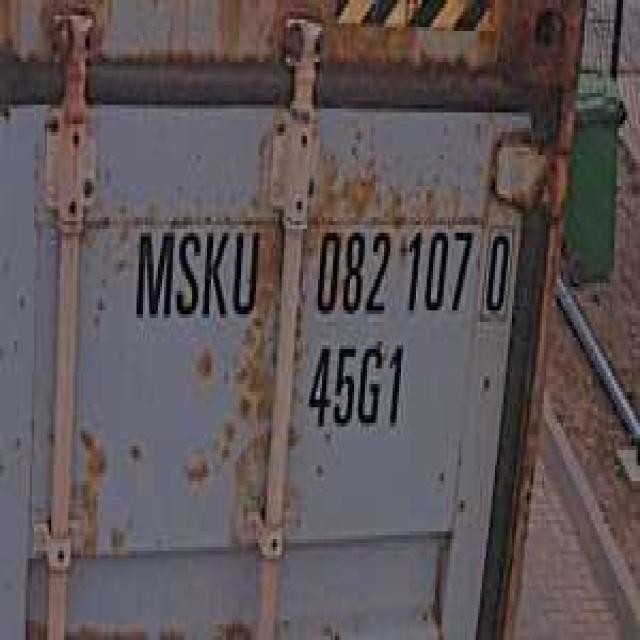dv: (478, 213, 518, 326)
owner: (128, 217, 262, 330)
serial: (309, 217, 476, 322)
size: (303, 330, 410, 442)
